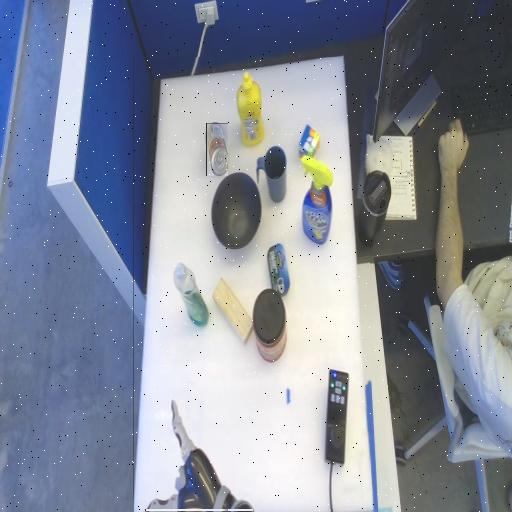bowl: (212, 174, 261, 249)
cleanser: (174, 278, 209, 312)
coffee_can: (253, 310, 286, 342)
jaco: (146, 402, 253, 511)
meat_can: (267, 244, 289, 296)
mug: (257, 147, 286, 202)
mustard_bottle: (238, 98, 263, 122)
rubik: (299, 132, 320, 153)
soup_can: (207, 123, 227, 175)
windex: (302, 157, 333, 244)
wooden_block: (213, 279, 253, 345)
workspace: (134, 57, 370, 509)
